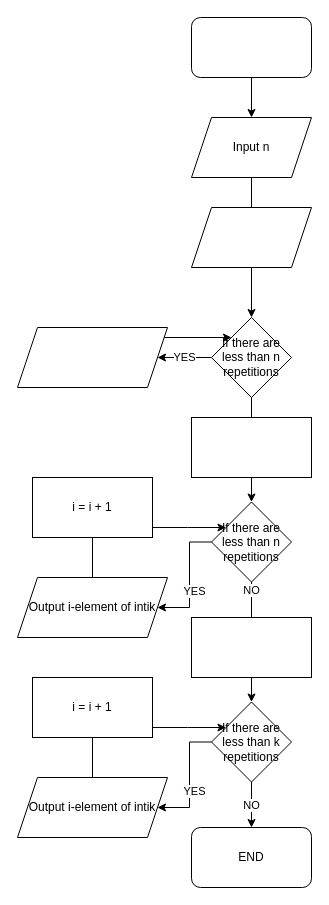
This 329x905 diagram has some shape labels left out. Here are the shapes that lost their labels. From the top down, the centre of each, then its label:
At [251,47]: "START".
At [251,237]: "Input k".
At [92,357]: "Input value into intik".
At [251,447]: "i = k".
At [251,647]: "i = 0".
